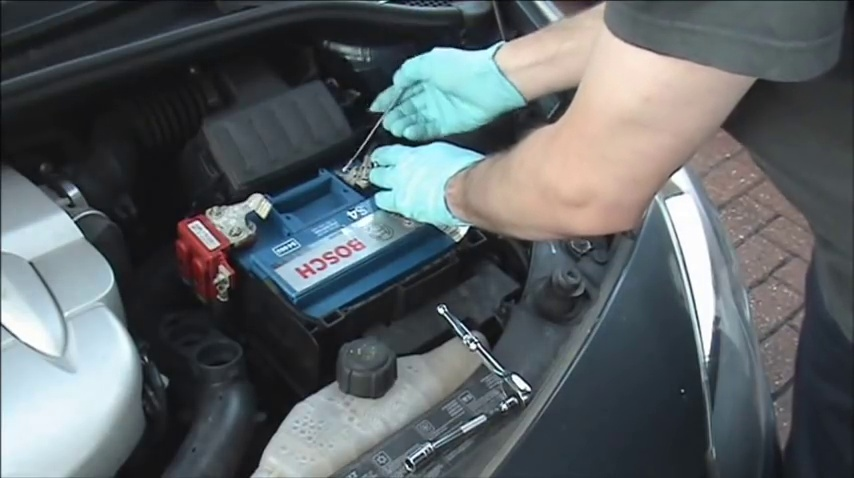battery: (208, 158, 459, 317)
neg_touched: (341, 88, 437, 215)
pos_connected: (171, 192, 280, 299)
